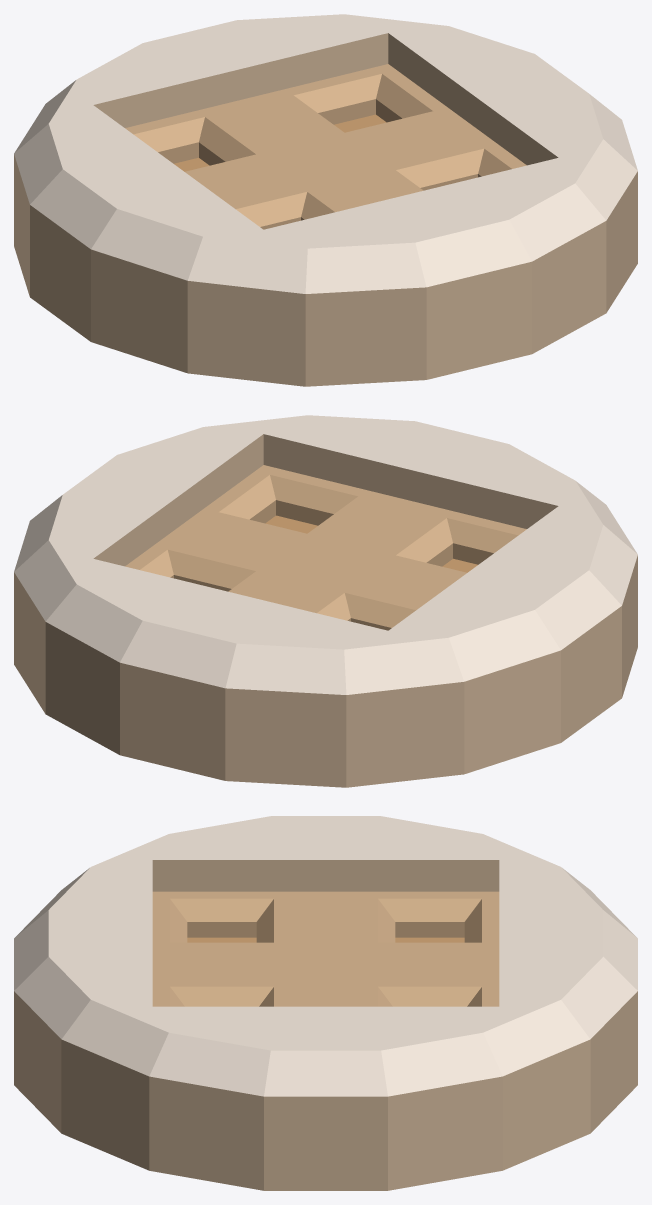
The model's file is Puzzle_Track_Rotating_Platform_Unconnected.fbx.
3 views of the same model, one above another, from view 1: azimuth 30°, elevation 25°; view 2: azimuth 150°, elevation 25°; view 3: azimuth 270°, elevation 25° (orthographic).
Visible parts, largest first — view 1: Sandstone_Floor.Sandstone_Floor.Sandstone_Floor.object1, Sandstone_Trim.Sandstone_Trim.Sandstone_Trim.Sandstone_Trim, Sandstone_4.Sandstone_4.Sandstone_4.Sandstone_4.Sandstone_4, Sandstone_5.Sandstone_5.Sandstone_5.Sandstone_5; view 2: Sandstone_Floor.Sandstone_Floor.Sandstone_Floor.object1, Sandstone_Trim.Sandstone_Trim.Sandstone_Trim.Sandstone_Trim, Sandstone_4.Sandstone_4.Sandstone_4.Sandstone_4.Sandstone_4, Sandstone_5.Sandstone_5.Sandstone_5.Sandstone_5; view 3: Sandstone_Floor.Sandstone_Floor.Sandstone_Floor.object1, Sandstone_Trim.Sandstone_Trim.Sandstone_Trim.Sandstone_Trim, Sandstone_4.Sandstone_4.Sandstone_4.Sandstone_4.Sandstone_4, Sandstone_5.Sandstone_5.Sandstone_5.Sandstone_5.
Boxes of the visible parts, x1=… form: Sandstone_Floor.Sandstone_Floor.Sandstone_Floor.object1: x1=14, y1=14, x2=637, y2=293; Sandstone_Trim.Sandstone_Trim.Sandstone_Trim.Sandstone_Trim: x1=14, y1=33, x2=637, y2=386; Sandstone_4.Sandstone_4.Sandstone_4.Sandstone_4.Sandstone_4: x1=125, y1=64, x2=526, y2=229; Sandstone_5.Sandstone_5.Sandstone_5.Sandstone_5: x1=174, y1=114, x2=386, y2=171; Sandstone_Floor.Sandstone_Floor.Sandstone_Floor.object1: x1=14, y1=415, x2=637, y2=694; Sandstone_Trim.Sandstone_Trim.Sandstone_Trim.Sandstone_Trim: x1=14, y1=434, x2=637, y2=787; Sandstone_4.Sandstone_4.Sandstone_4.Sandstone_4.Sandstone_4: x1=125, y1=465, x2=526, y2=630; Sandstone_5.Sandstone_5.Sandstone_5.Sandstone_5: x1=265, y1=515, x2=477, y2=572; Sandstone_Floor.Sandstone_Floor.Sandstone_Floor.object1: x1=14, y1=816, x2=637, y2=1096; Sandstone_Trim.Sandstone_Trim.Sandstone_Trim.Sandstone_Trim: x1=14, y1=860, x2=637, y2=1190; Sandstone_4.Sandstone_4.Sandstone_4.Sandstone_4.Sandstone_4: x1=152, y1=891, x2=499, y2=1006; Sandstone_5.Sandstone_5.Sandstone_5.Sandstone_5: x1=187, y1=937, x2=464, y2=942.
Size of the model in its own units: 0.9 by 0.2 by 0.9.
